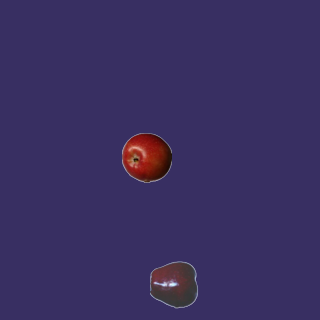Apple Braeburn: (121, 132, 171, 182)
Apple Red Delicious: (149, 259, 199, 309)
